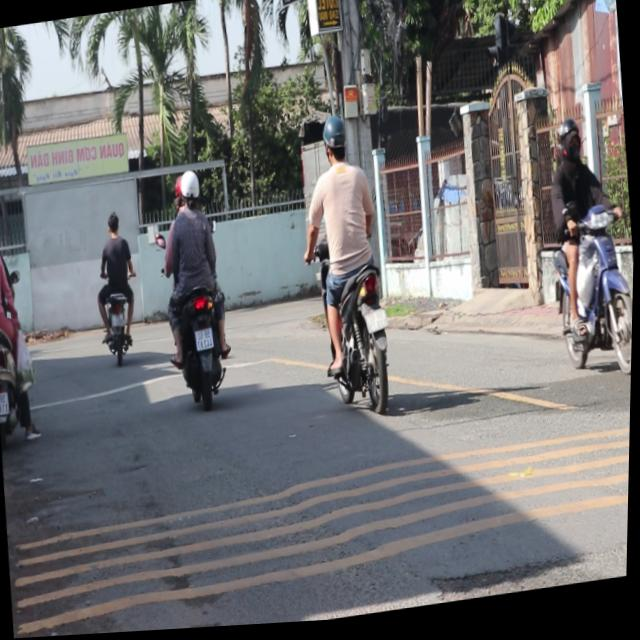helmet: (320, 115, 351, 168), (556, 121, 585, 169), (179, 168, 203, 210)
licenseplate: (296, 108, 403, 425), (537, 112, 638, 390), (152, 163, 242, 412), (0, 197, 46, 448)
nohelmet: (364, 309, 389, 338), (195, 329, 215, 351), (0, 389, 11, 412)
